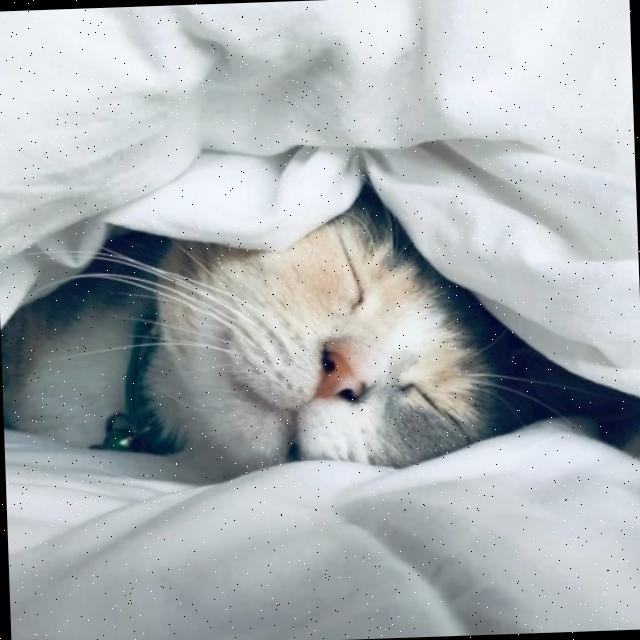Happy: (205, 189, 494, 484)
